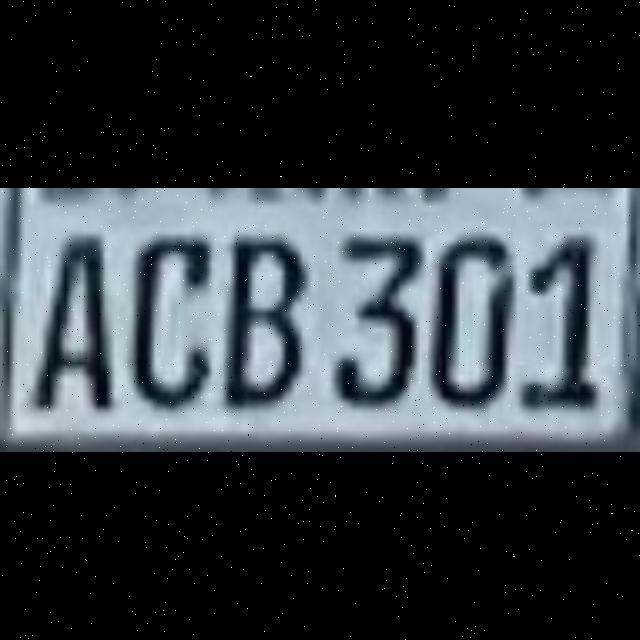0: (422, 221, 520, 419)
1: (520, 221, 616, 419)
3: (326, 221, 422, 419)
A: (34, 221, 130, 419)
B: (228, 221, 324, 419)
C: (130, 221, 228, 419)
